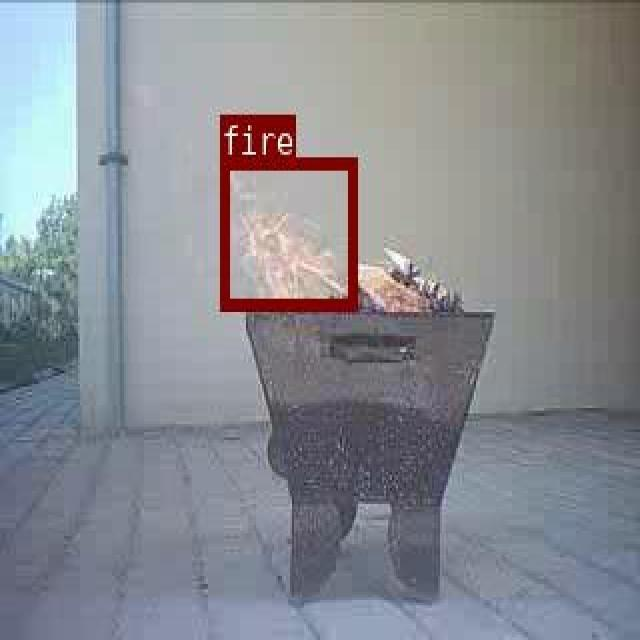fire: (219, 155, 355, 309)
